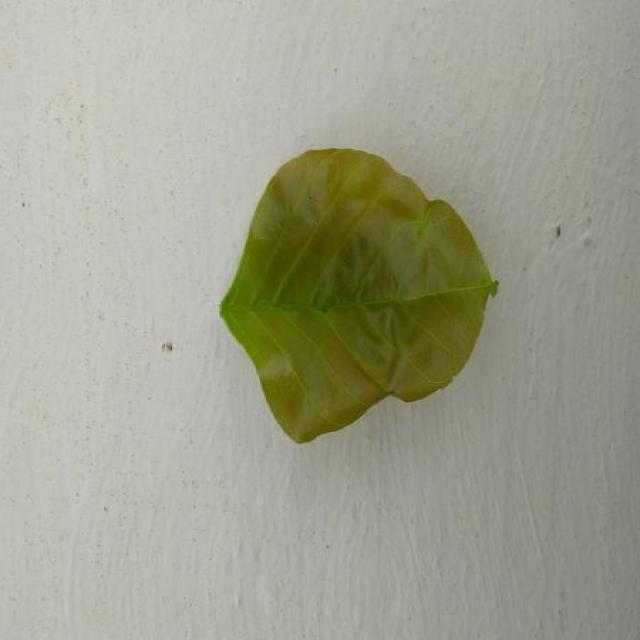honge: (222, 149, 497, 442)
leaf rust: (222, 149, 497, 442)
